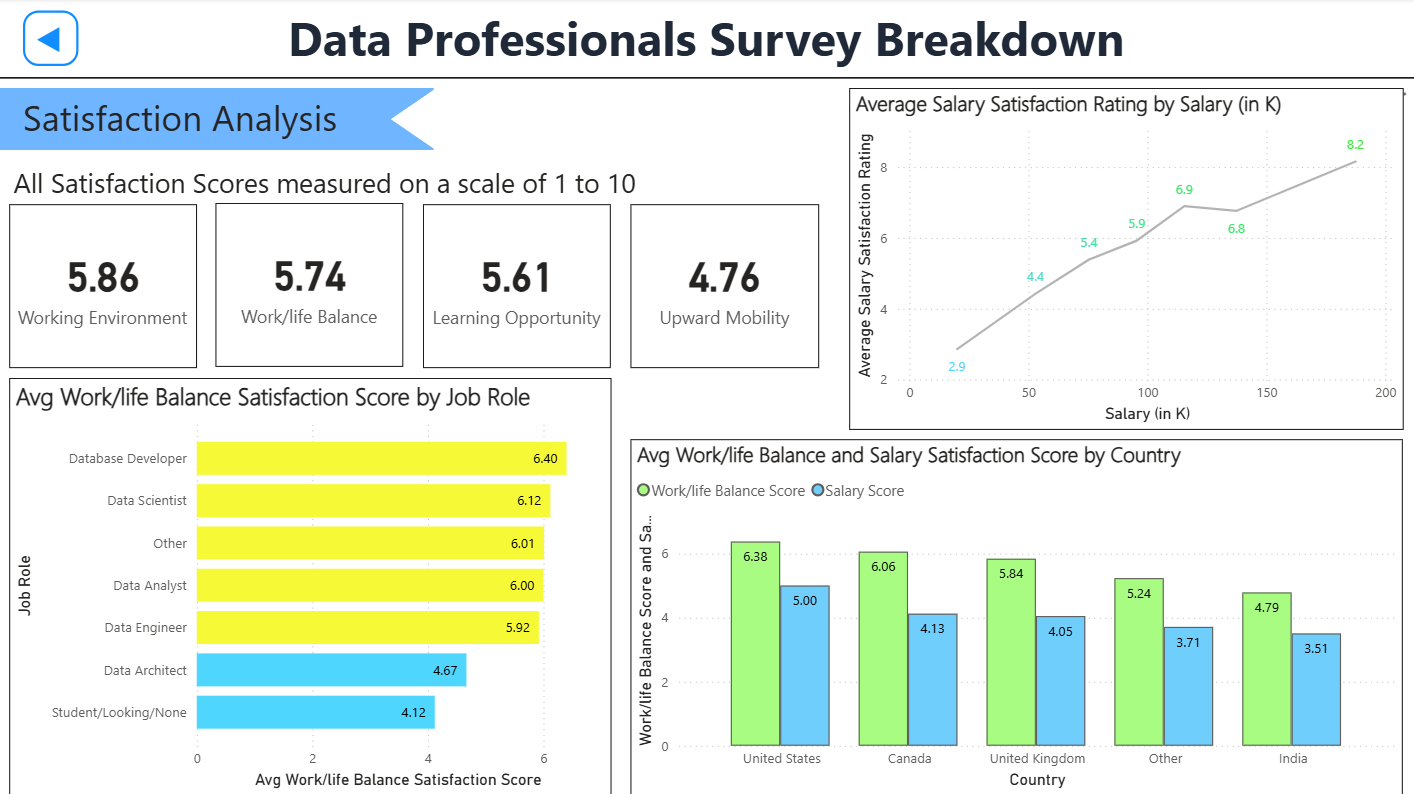

Layout of this report page (visuals, bound fields, positions):
{"tool":"powerbi","page":{"name":"Satisfaction Analysis","canvas":[1280,720],"ordinal":2},"visuals":[{"type":"textbox","box":[0,81.1,393.5,56.4],"z":2000},{"type":"shape","box":[354,81.1,41.1,56.4],"z":3000},{"type":"textbox","box":[0,0,1280,72.6],"z":4000},{"type":"actionButton","box":[22.5,11.3,50.1,50.1],"z":5000},{"type":"textbox","box":[9.3,145.3,573.3,51.2],"z":6000},{"type":"card","fields":{"Values":["Avg(Data Professional Survey.Q6 - How Happy are you in your Current Position with the following? (Work/Life Balance))"]},"box":[196.5,184.9,169.8,147.7],"z":7000},{"type":"card","fields":{"Values":["Avg(Data Professional Survey.Q6 - How Happy are you in your Current Position with the following? (Upward Mobility))"]},"box":[571.6,186.1,170.5,147.7],"z":8000},{"type":"card","fields":{"Values":["Avg(Data Professional Survey.Q6 - How Happy are you in your Current Position with the following? (Learning New Things))"]},"box":[383.7,186,169.8,147.7],"z":9000},{"type":"card","fields":{"Values":["Avg(Data Professional Survey.Q6 - How Happy are you in your Current Position with the following? (Coworkers))"]},"box":[9.6,186.1,169.3,147.7],"z":10000},{"type":"clusteredBarChart","fields":{"Category":["Data Professional Survey.Q1 - Which Title Best Fits your Current Role?"],"Y":["Avg(Data Professional Survey.Q6 - How Happy are you in your Current Position with the following? (Work/Life Balance))"]},"box":[9.6,343.4,543.9,377],"z":11000},{"type":"clusteredColumnChart","title":"Avg Work/life Balance and Salary Satisfaction Score by Country","fields":{"Y":["Avg(Data Professional Survey.Q6 - How Happy are you in your Current Position with the following? (Work/Life Balance))","Avg(Data Professional Survey.Q6 - How Happy are you in your Current Position with the following? (Salary))"],"Category":["Data Professional Survey.Q11 - Which Country do you live in?"]},"box":[571.6,398.6,697.6,321.8],"z":13000},{"type":"lineChart","fields":{"Category":["Data Professional Survey.Average Salary"],"Y":["Avg(Data Professional Survey.Q6 - How Happy are you in your Current Position with the following? (Salary))"]},"box":[768.5,81.7,500.7,308.6],"z":14000}]}

Visuals, with their boxes in screenshot pixels (x1, y1, x2, y2), scaled from the page's 1280x720 canvas onto the 1414x794 screenshot:
textbox: 0/89/435/152
shape: 391/89/436/152
textbox: 0/0/1413/80
actionButton: 25/12/80/68
textbox: 10/160/644/217
card - Avg(Data Professional Survey.Q6 - How Happy are you in your Current Position with the following? (Work/Life Balance)): 217/204/405/367
card - Avg(Data Professional Survey.Q6 - How Happy are you in your Current Position with the following? (Upward Mobility)): 631/205/820/368
card - Avg(Data Professional Survey.Q6 - How Happy are you in your Current Position with the following? (Learning New Things)): 424/205/611/368
card - Avg(Data Professional Survey.Q6 - How Happy are you in your Current Position with the following? (Coworkers)): 11/205/198/368
clusteredBarChart - Data Professional Survey.Q1 - Which Title Best Fits your Current Role? x Avg(Data Professional Survey.Q6 - How Happy are you in your Current Position with the following? (Work/Life Balance)): 11/379/611/793
"Avg Work/life Balance and Salary Satisfaction Score by Country" clusteredColumnChart: 631/440/1402/793
lineChart - Data Professional Survey.Average Salary x Avg(Data Professional Survey.Q6 - How Happy are you in your Current Position with the following? (Salary)): 849/90/1402/430
